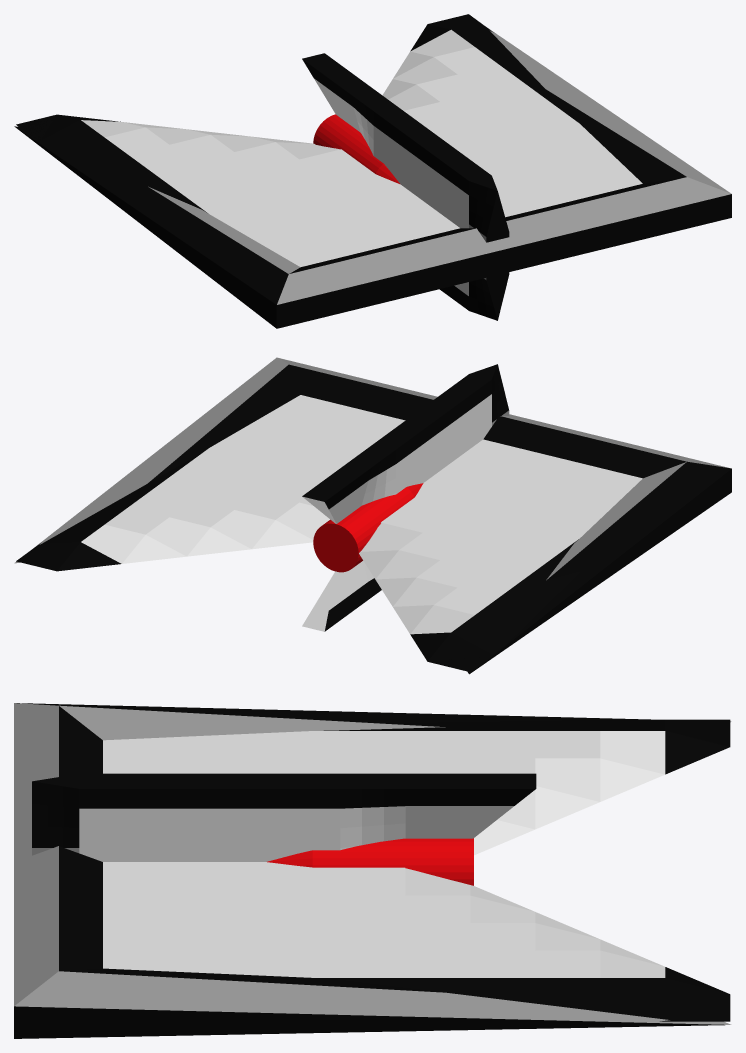
File: gun_3d.fbx
3 views of the same model, one above another, from view 1: azimuth 30°, elevation 25°; view 2: azimuth 150°, elevation 25°; view 3: azimuth 270°, elevation 25° (orthographic). The views are drawn at different scales.
Parts seen in each view (by area): view 1: Plane, Cube, Plane.001, Cylinder; view 2: Plane, Cube, Plane.001, Cylinder; view 3: Plane, Cube, Plane.001, Cylinder.
Boxes of the visible parts, x1=… form: Plane: x1=16, y1=14, x2=642, y2=267; Cube: x1=14, y1=27, x2=731, y2=328; Plane.001: x1=302, y1=53, x2=509, y2=320; Cylinder: x1=313, y1=114, x2=399, y2=183; Plane: x1=16, y1=395, x2=642, y2=671; Cube: x1=14, y1=357, x2=731, y2=674; Plane.001: x1=302, y1=364, x2=509, y2=631; Cylinder: x1=313, y1=483, x2=423, y2=572; Plane: x1=103, y1=719, x2=730, y2=1021; Cube: x1=14, y1=703, x2=731, y2=1038; Plane.001: x1=32, y1=773, x2=536, y2=861; Cylinder: x1=267, y1=838, x2=473, y2=885.
Bounding box in the file's own units: 200 × 54.55 × 200.
